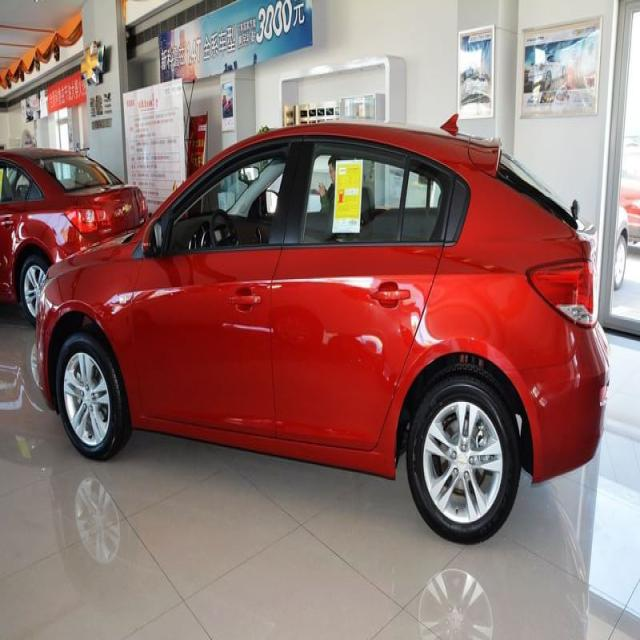back_left_side_light: (524, 256, 600, 326)
door: (292, 136, 458, 459)
front_left_side_door: (128, 127, 301, 442)
front_left_side_mirror: (146, 213, 171, 255)
wheel: (408, 376, 516, 544), (58, 334, 121, 458)
